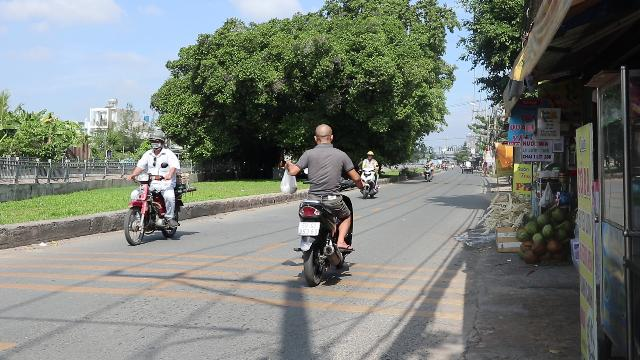helmet: (148, 131, 166, 151)
licenseplate: (298, 221, 320, 234)
motorcyclist: (290, 122, 358, 286), (122, 130, 184, 244)
nohelmet: (312, 123, 334, 145)
